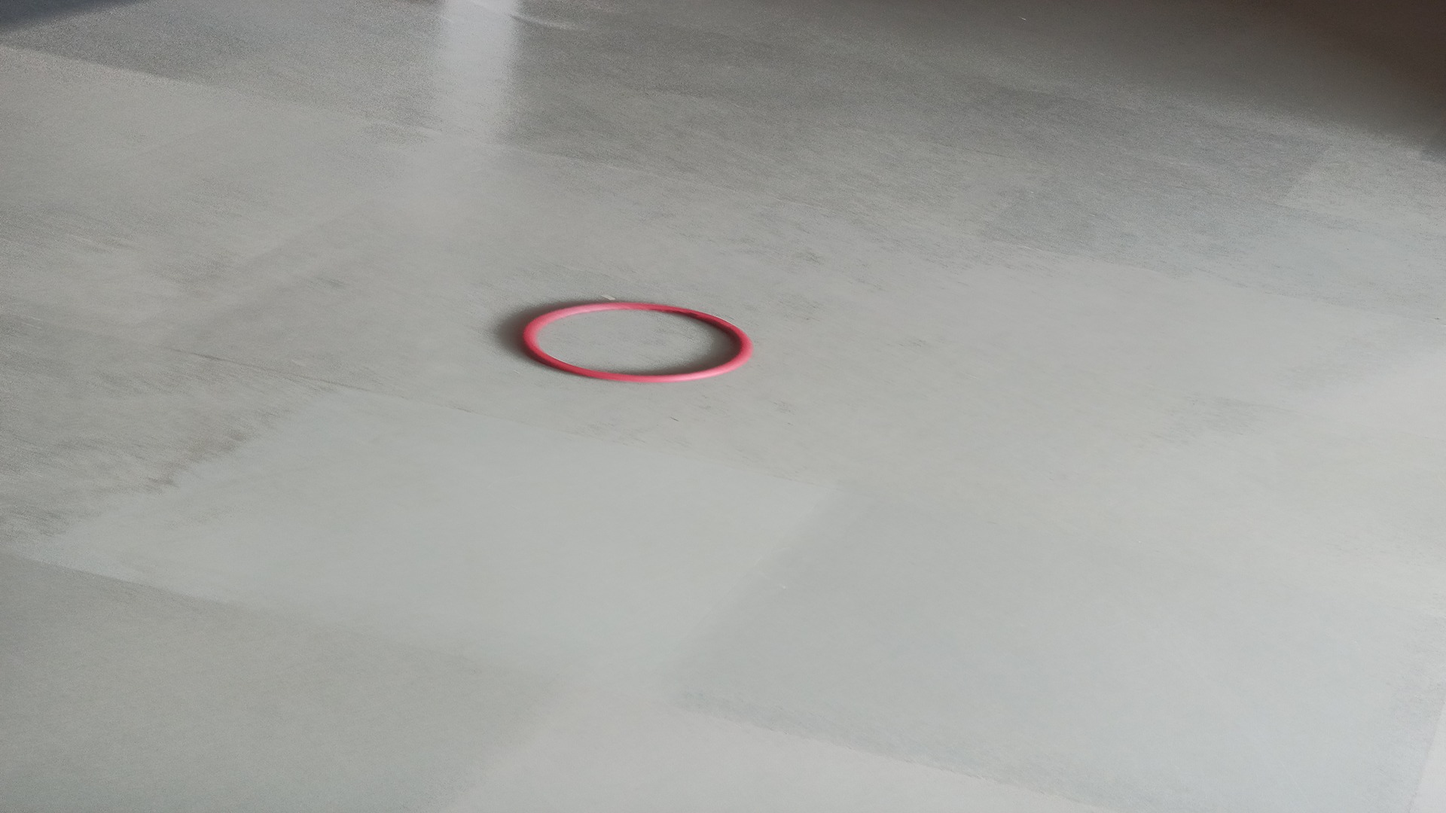Red ring: (520, 303, 754, 383)
